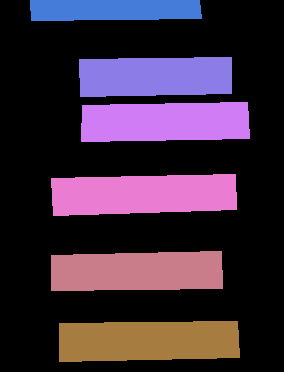parkingspot: (51, 174, 236, 215), (59, 321, 239, 361), (51, 251, 222, 290), (81, 102, 249, 141), (79, 57, 231, 96), (30, 0, 201, 20)
